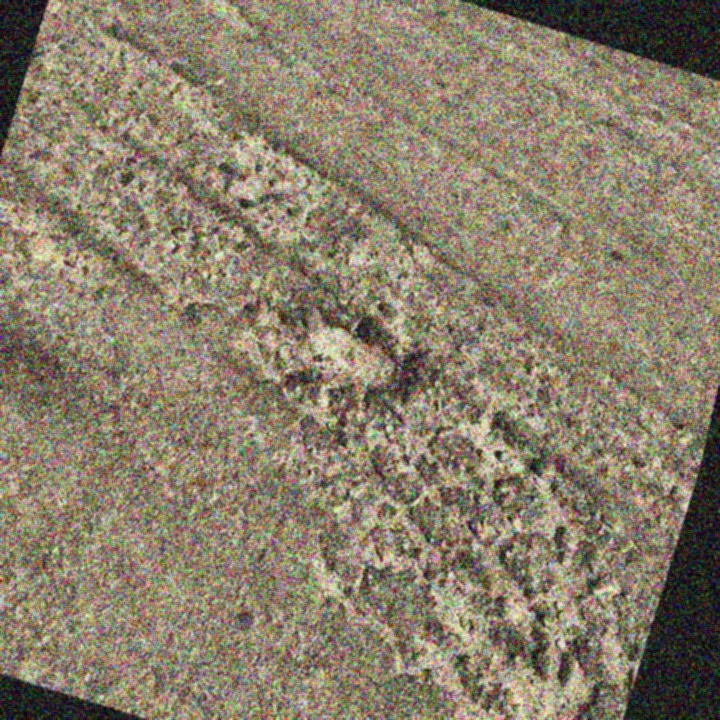pothole: (291, 306, 428, 401)
